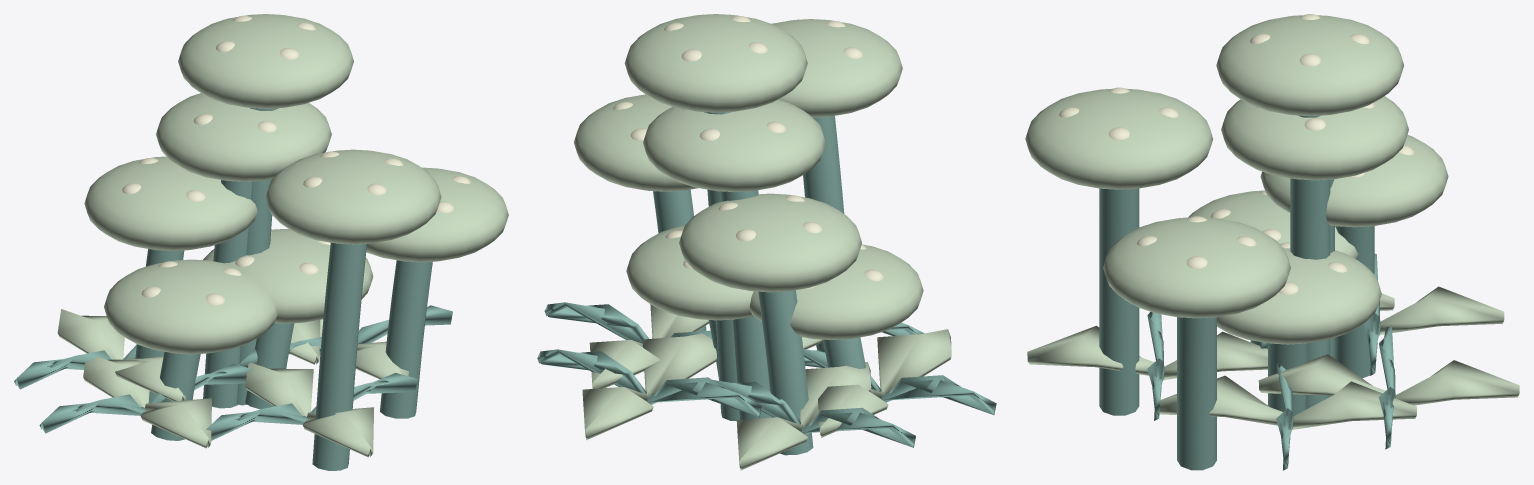
The model's file is bio_spore_fungus_10_near.glb.
3 views of the same model, side by side, from view 1: azimuth 30°, elevation 25°; view 2: azimuth 150°, elevation 25°; view 3: azimuth 270°, elevation 25° (orthographic). The views are drawn at different scales.
Parts seen in each view (by area): view 1: Thick umbrella cap.003, Thick umbrella cap.002, Thick umbrella cap.004, Thick umbrella cap.001, Thick umbrella cap.006, Curved stipe.002, Thick umbrella cap.005, Thick umbrella cap, Curved stipe.005, Low buttress leaf.009, Low buttress leaf.017, Low buttress leaf.005 (+14 smaller); view 2: Thick umbrella cap.003, Thick umbrella cap.001, Thick umbrella cap.006, Thick umbrella cap.004, Thick umbrella cap.002, Thick umbrella cap, Thick umbrella cap.005, Low buttress leaf.013, Low buttress leaf.017, Curved stipe.001, Low buttress leaf.005, Low buttress leaf.012 (+11 smaller); view 3: Thick umbrella cap.002, Thick umbrella cap.005, Thick umbrella cap.003, Thick umbrella cap.006, Thick umbrella cap, Thick umbrella cap.001, Curved stipe.002, Curved stipe.005, Low buttress leaf.013, Low buttress leaf.001, Low buttress leaf.009, Curved stipe.003 (+11 smaller).
Part boxes in pixels (x1,y1,x2,y2): Thick umbrella cap.003: [178, 14, 353, 108]; Thick umbrella cap.002: [265, 149, 441, 244]; Thick umbrella cap.004: [104, 259, 277, 354]; Thick umbrella cap.001: [84, 156, 257, 250]; Thick umbrella cap.006: [156, 93, 331, 181]; Curved stipe.002: [312, 242, 366, 470]; Thick umbrella cap.005: [366, 167, 508, 262]; Thick umbrella cap: [203, 229, 373, 323]; Curved stipe.005: [380, 260, 432, 418]; Low buttress leaf.009: [245, 362, 373, 457]; Low buttress leaf.017: [83, 353, 211, 448]; Low buttress leaf.005: [57, 309, 185, 401]; Thick umbrella cap.003: [624, 14, 807, 112]; Thick umbrella cap.001: [679, 193, 861, 292]; Thick umbrella cap.006: [643, 99, 825, 192]; Thick umbrella cap.004: [749, 244, 923, 339]; Thick umbrella cap.002: [772, 19, 902, 117]; Thick umbrella cap: [626, 225, 753, 320]; Thick umbrella cap.005: [574, 94, 698, 191]; Low buttress leaf.013: [582, 333, 716, 440]; Low buttress leaf.017: [818, 329, 951, 437]; Curved stipe.001: [758, 290, 813, 455]; Low buttress leaf.005: [736, 362, 871, 470]; Low buttress leaf.012: [537, 349, 761, 417]; Thick umbrella cap.002: [1025, 88, 1213, 189]; Thick umbrella cap.005: [1103, 217, 1290, 318]; Thick umbrella cap.003: [1216, 15, 1404, 116]; Thick umbrella cap.006: [1221, 96, 1408, 180]; Thick umbrella cap: [1217, 248, 1381, 344]; Thick umbrella cap.001: [1260, 135, 1448, 227]; Curved stipe.002: [1099, 188, 1139, 415]; Curved stipe.005: [1177, 317, 1216, 470]; Low buttress leaf.013: [1258, 354, 1519, 405]; Low buttress leaf.001: [1159, 375, 1416, 430]; Low buttress leaf.009: [1027, 325, 1267, 380]; Curved stipe.003: [1290, 115, 1330, 409].
Size of the model in its own units: 2.23 by 1.82 by 2.1.
